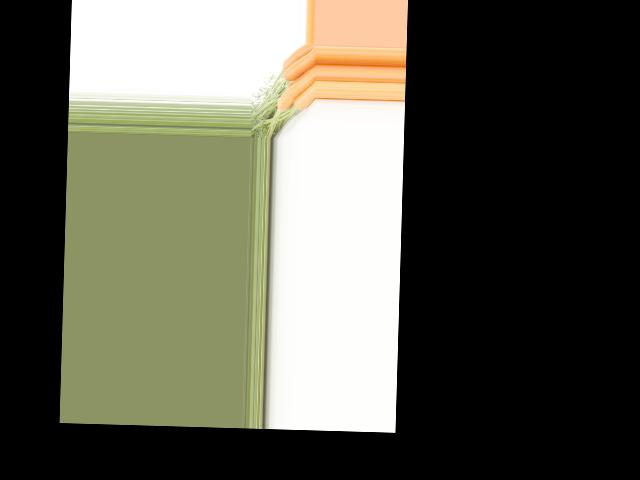carrot: (292, 82, 316, 110)
